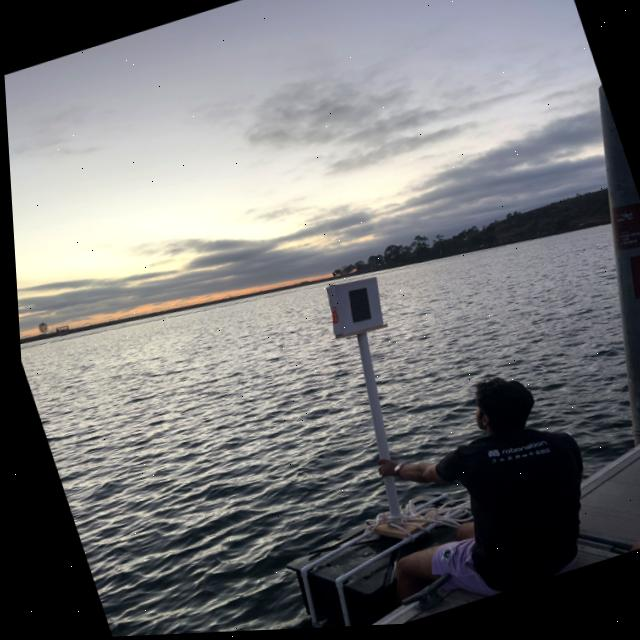led: (328, 275, 383, 343)
